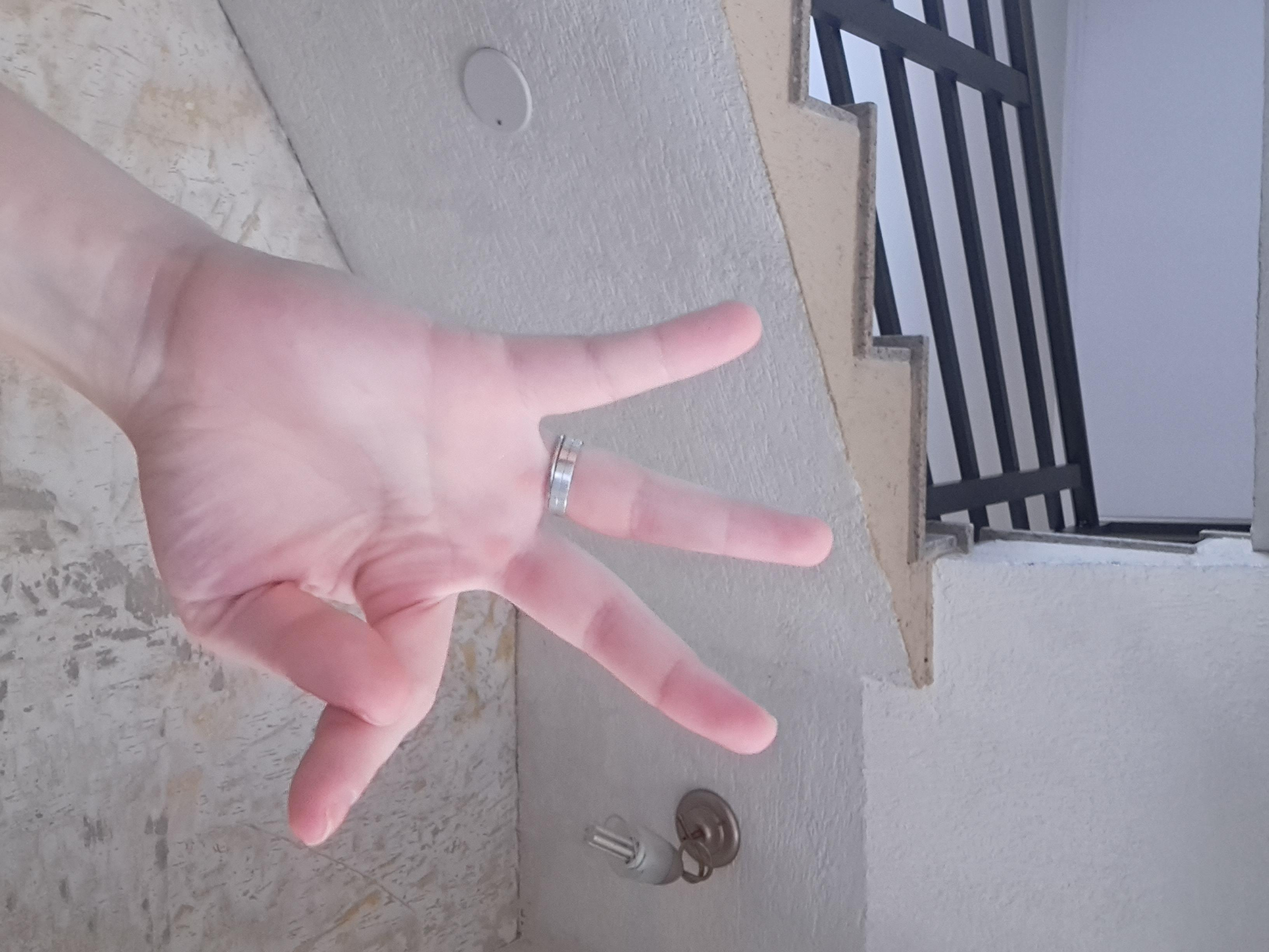T: (321, 327, 1140, 884)
